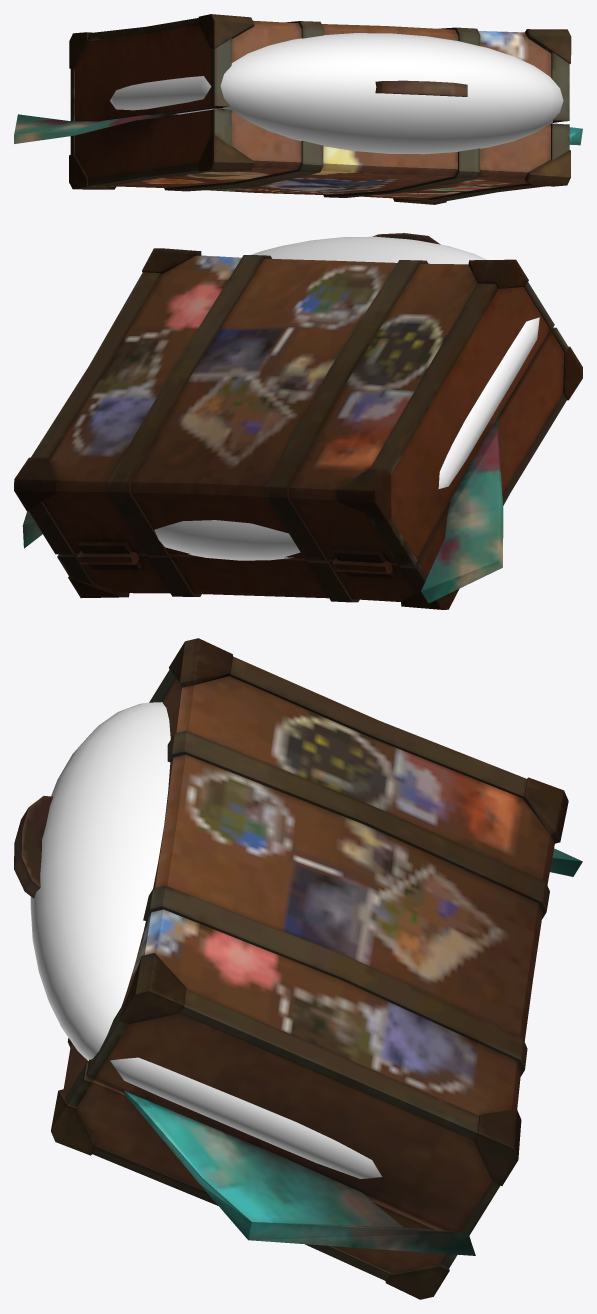
Rendered from SuitcaseAnchor.fbx.
3 views of the same model, one above another, from view 1: azimuth 30°, elevation 25°; view 2: azimuth 150°, elevation 25°; view 3: azimuth 270°, elevation 25° (orthographic). The views are drawn at different scales.
Visible parts, largest first — view 1: LMAFI_, Suitcase_InteractionPoint; view 2: LMAFI_, Suitcase_InteractionPoint; view 3: LMAFI_, Suitcase_InteractionPoint.
Part boxes in pixels (bbox=[...]): LMAFI_: bbox=[14, 14, 582, 204]; Suitcase_InteractionPoint: bbox=[110, 33, 563, 154]; LMAFI_: bbox=[14, 233, 582, 609]; Suitcase_InteractionPoint: bbox=[154, 236, 539, 560]; LMAFI_: bbox=[14, 638, 582, 1299]; Suitcase_InteractionPoint: bbox=[30, 702, 381, 1178].
Bounding box in the file's own units: 66.86 × 42.31 × 48.07.
